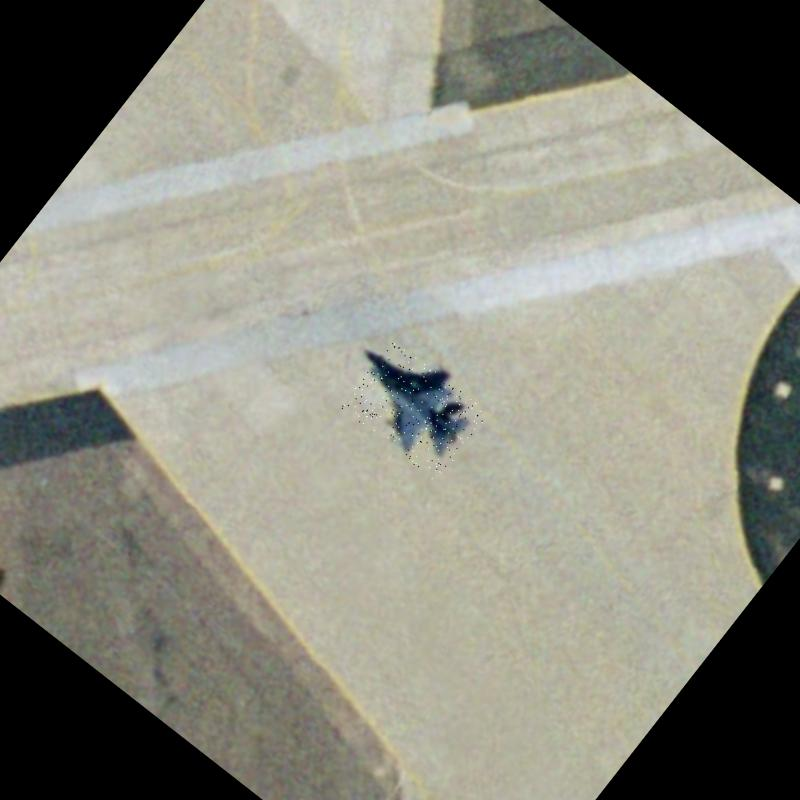A5: (339, 339, 489, 482)
